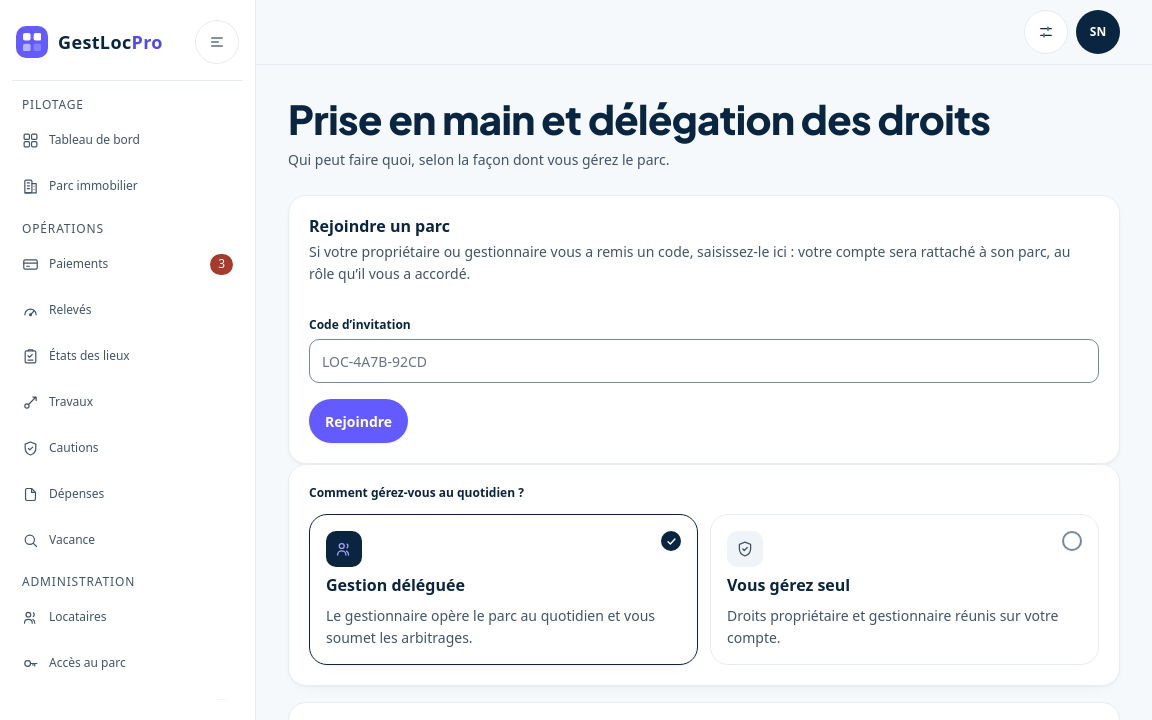
Test: matrice des droits › en gestion seule, neutralise la colonne du gestionnaire au lieu de la remplir de refus
The width and height of the screenshot is (1152, 720).
Expected: the heading "Prise en main et délégation des droits" is shown, [288,93,990,144]
Click the radio button labelled "Vous gérez seul".
click(745, 549)  # box [710,514,1099,665]
(page scrolled)
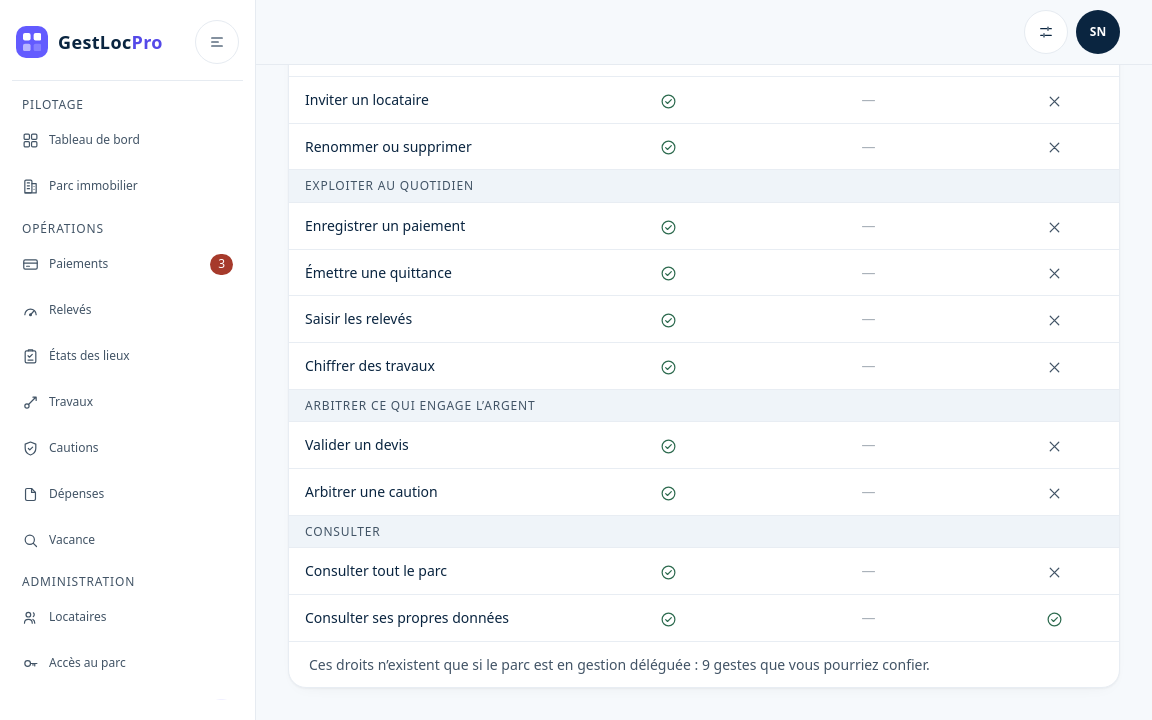
Result: the text "en gestion déléguée" is shown at [309,654,930,674]
